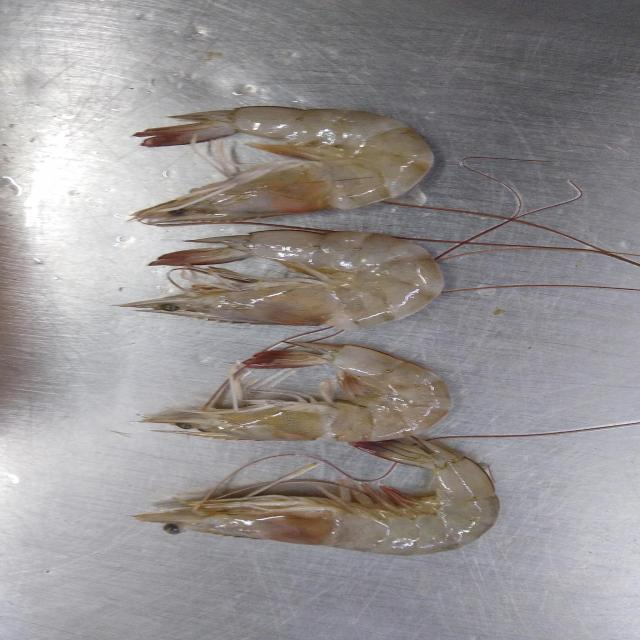shrimp: (136, 438, 500, 556), (133, 106, 433, 225), (122, 230, 444, 330), (142, 341, 453, 441)
